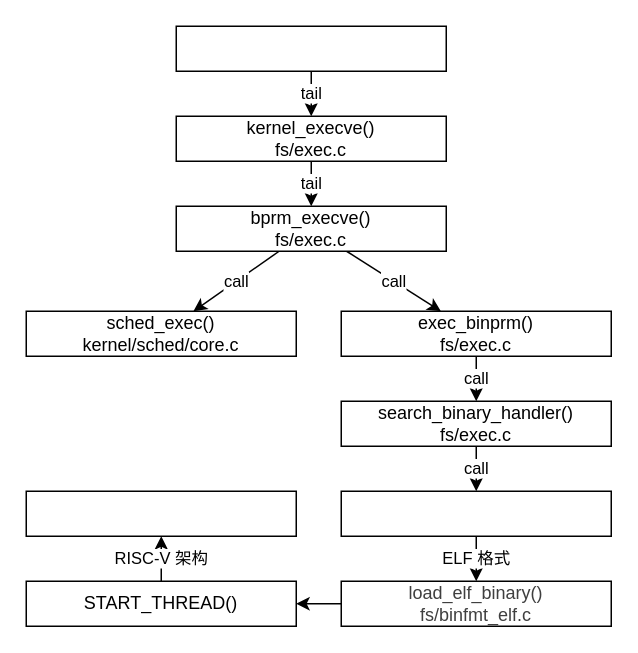
Image size: 638x653. Some labels were removed from this diagram. The box of each missing label's shape, as (x1, y1, x2, y2) in pixels:
fmt->load_binary(): (340, 490, 611, 536)
run_init_process() init/main.c: (175, 25, 446, 71)
start_thread() arch/riscv/kernel/process.c: (25, 490, 296, 536)
